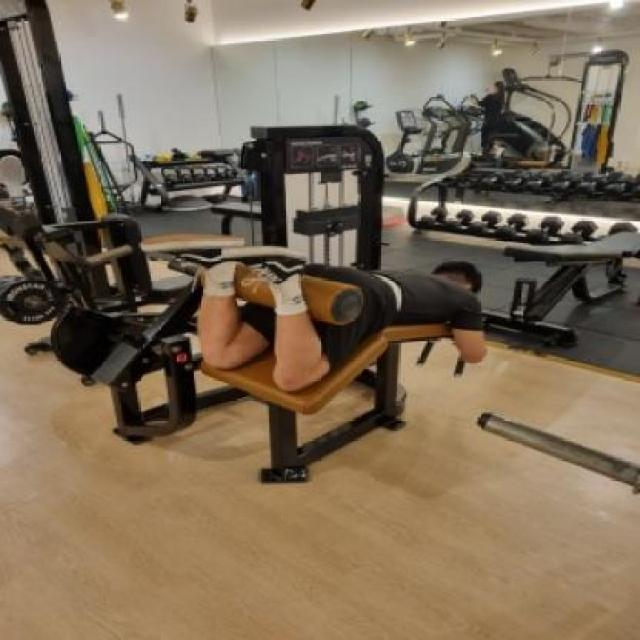reg curl machine: (80, 114, 498, 488)
